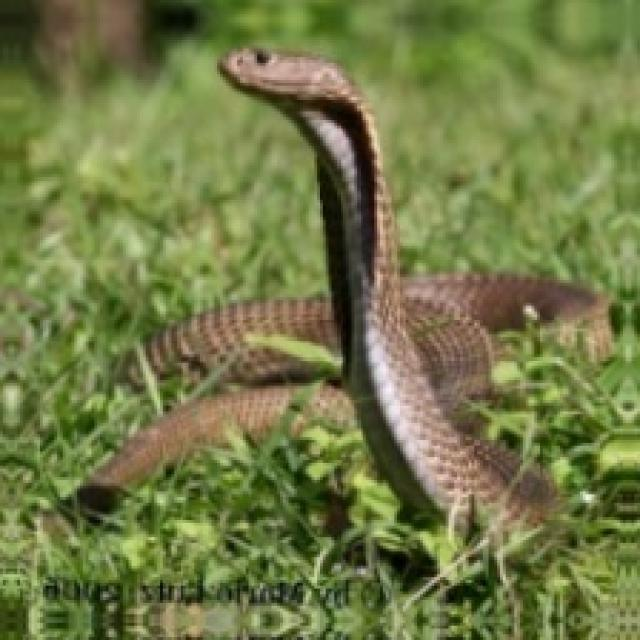philippine cobra: (77, 49, 609, 526)
